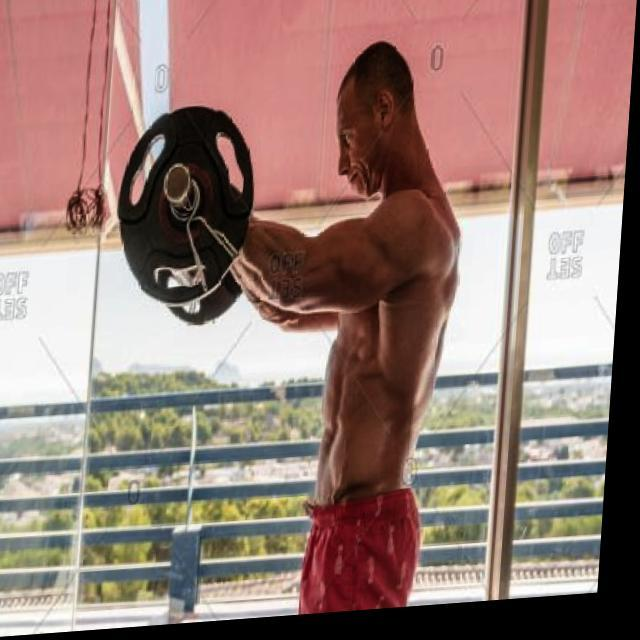barbell: (111, 100, 265, 315)
